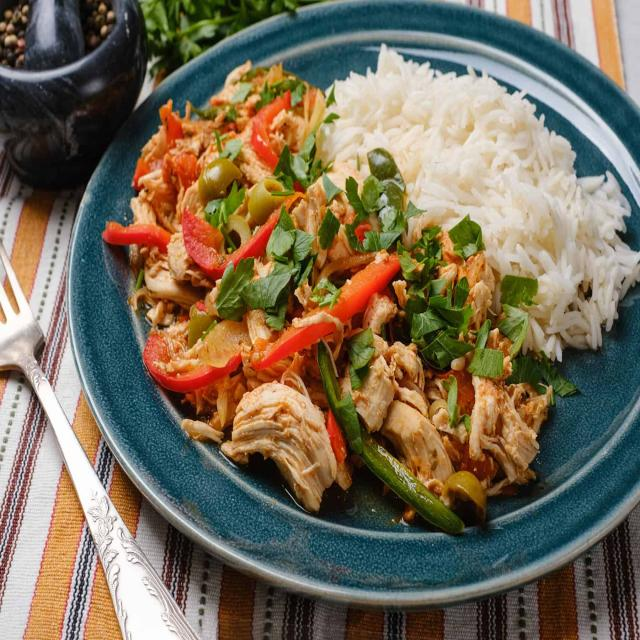arroz: (316, 38, 634, 362)
pollo: (226, 370, 343, 508)
